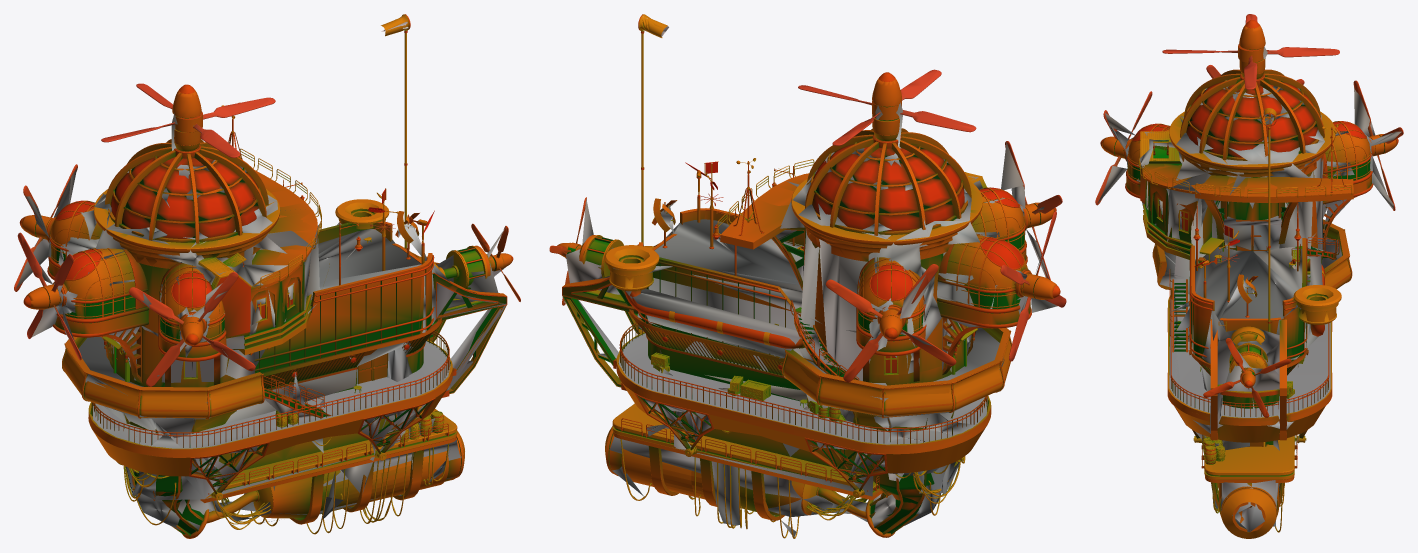
Rendered from KB3D_CSK_BldgSmWeatherStation_A.glb.
3 renders of one model, left to right at view 1: azimuth 30°, elevation 25°; view 2: azimuth 150°, elevation 25°; view 3: azimuth 270°, elevation 25°, orthographic. The views are drawn at different scales.
Parts seen in each view (by area): view 1: L0, L1, L2; view 2: L0, L2, L1; view 3: L0, L2, L1.
Part boxes in pixels (x1=…): L0: x1=14, y1=14, x2=520, y2=538; L1: x1=14, y1=15, x2=518, y2=535; L2: x1=16, y1=17, x2=506, y2=530; L0: x1=549, y1=14, x2=1066, y2=538; L2: x1=564, y1=16, x2=1057, y2=537; L1: x1=550, y1=15, x2=1063, y2=537; L0: x1=1095, y1=14, x2=1403, y2=538; L2: x1=1098, y1=46, x2=1401, y2=532; L1: x1=1096, y1=16, x2=1401, y2=536.
Size of the model in its own units: 29.34 by 27.52 by 17.94.
